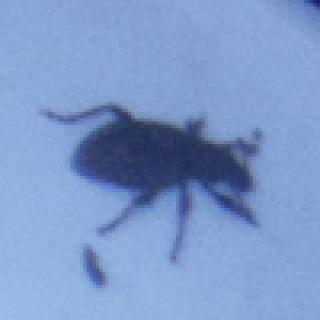bvw: (34, 102, 266, 264)
